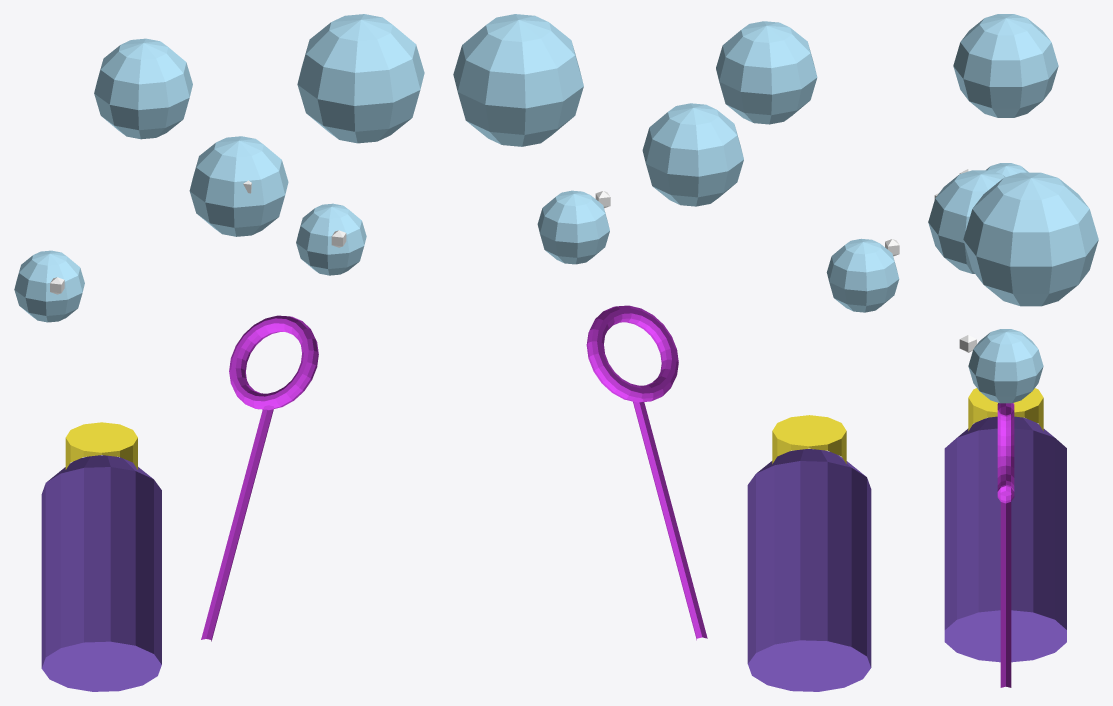
File: sapbubblor.glb
3 renders of one model, left to right at view 1: azimuth 30°, elevation 25°; view 2: azimuth 150°, elevation 25°; view 3: azimuth 270°, elevation 25°, orthographic. The views are drawn at different scales.
Visible parts, largest first — view 1: sapbubblor; view 2: sapbubblor; view 3: sapbubblor.
Part boxes in pixels (bbox=[...]): sapbubblor: bbox=[14, 14, 424, 691]; sapbubblor: bbox=[453, 14, 899, 691]; sapbubblor: bbox=[928, 14, 1098, 687].
Bounding box in the file's own units: 0.3899 × 0.562 × 0.136.
